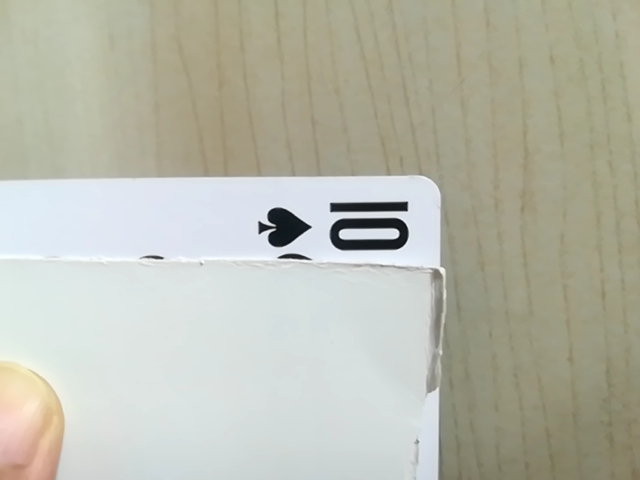ht 10: (231, 180, 440, 282)
